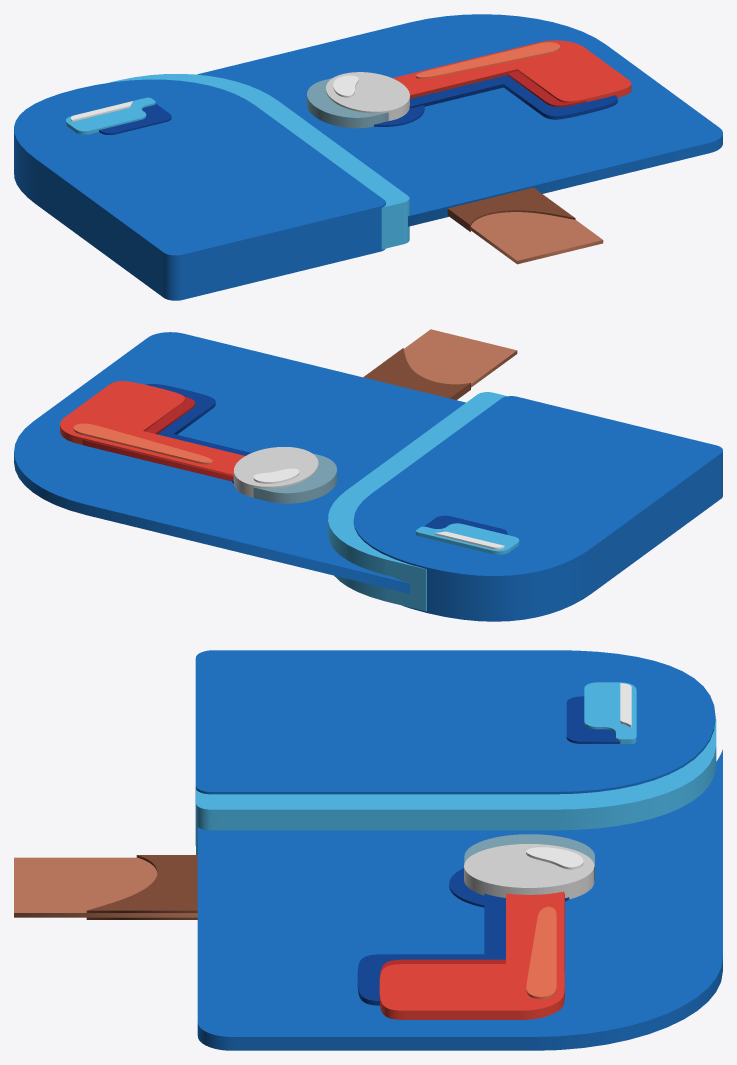
Rendered from emoji_u1f4ea.glb.
The picture shows the model from 3 angles, top to bottom: view 1: azimuth 30°, elevation 25°; view 2: azimuth 150°, elevation 25°; view 3: azimuth 270°, elevation 25°; orthographic projection. The views are drawn at different scales.
Parts seen in each view (by area): view 1: emoji_u1f4ea; view 2: emoji_u1f4ea; view 3: emoji_u1f4ea.
Part boxes in pixels (x1=…): emoji_u1f4ea: x1=14, y1=14, x2=722, y2=300; emoji_u1f4ea: x1=14, y1=329, x2=722, y2=621; emoji_u1f4ea: x1=14, y1=650, x2=722, y2=1050.
Size of the model in its own units: 0.0338 by 0.0032 by 0.0279.
